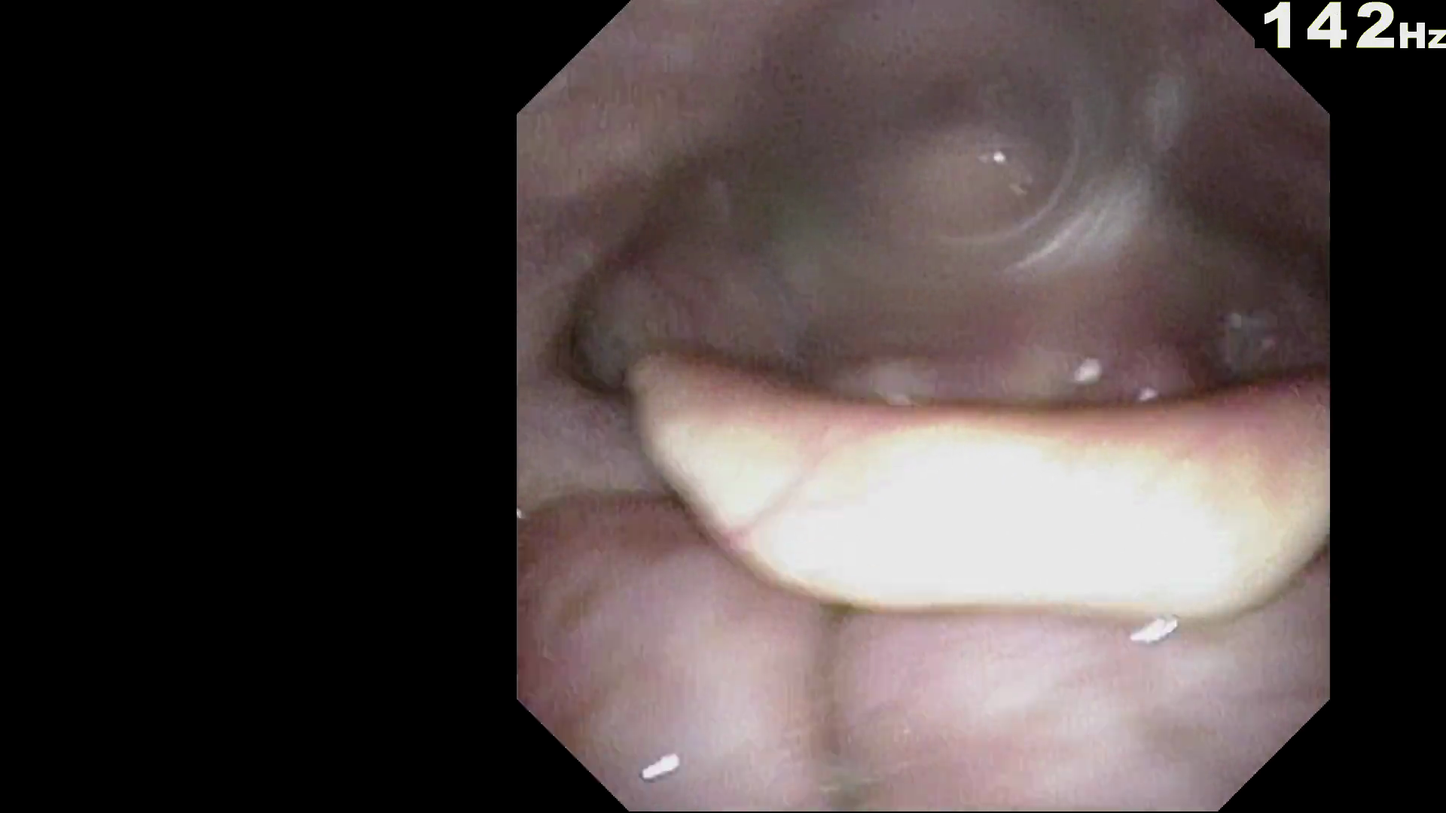epiglottis: (604, 350, 1219, 575)
